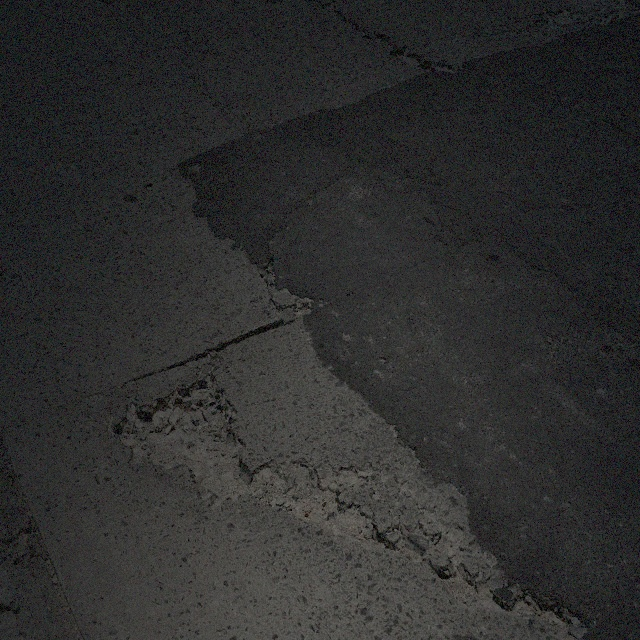pothole: (110, 369, 253, 512), (250, 454, 382, 558), (536, 5, 584, 28)
